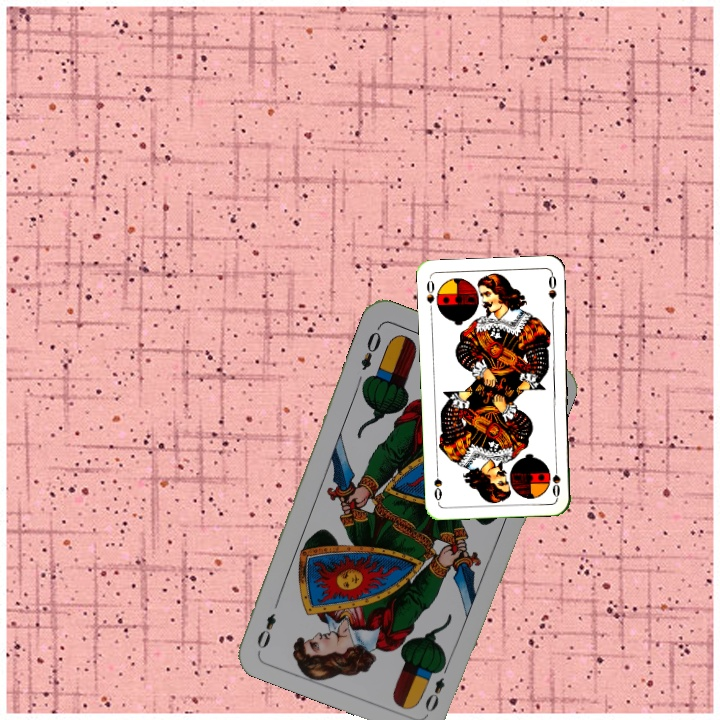EO: (421, 659, 452, 715), (356, 322, 384, 373)
SO: (548, 459, 563, 499), (422, 275, 437, 315)
